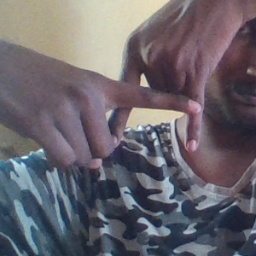H: (90, 42, 215, 158)
